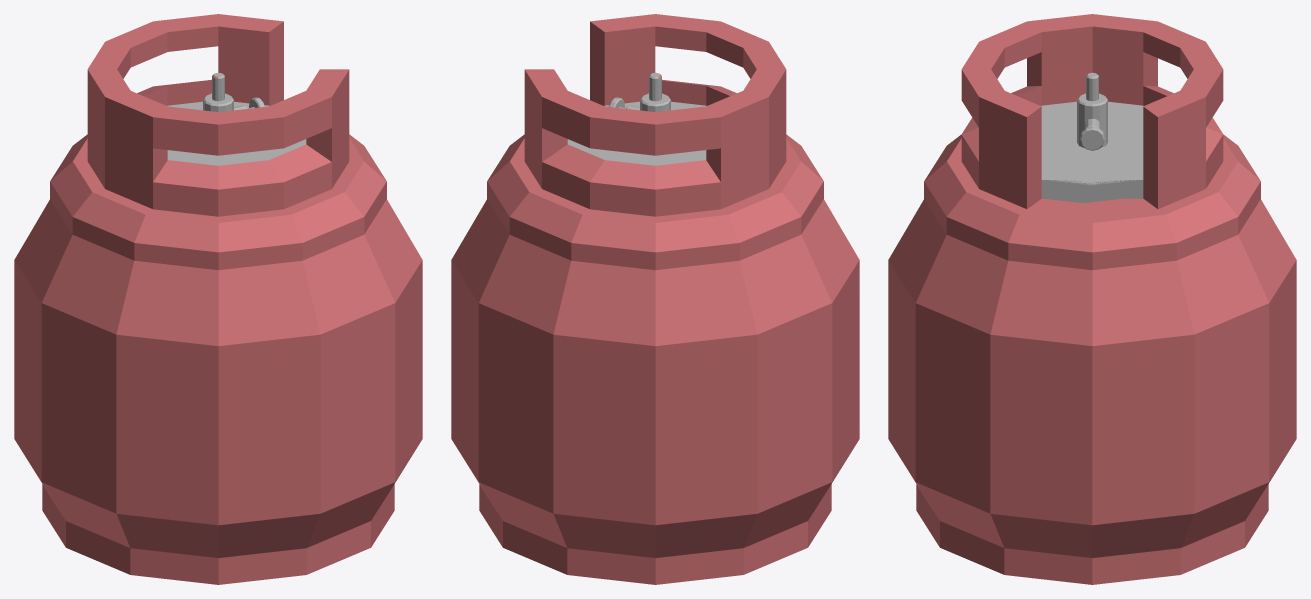
File: Gas Tank A.glb
3 views of the same model, side by side, from view 1: azimuth 30°, elevation 25°; view 2: azimuth 150°, elevation 25°; view 3: azimuth 270°, elevation 25° (orthographic).
Parts seen in each view (by area): view 1: Gas Tank A; view 2: Gas Tank A; view 3: Gas Tank A.
Part boxes in pixels (box(x1,y1,x2,y2)): Gas Tank A: box(14, 14, 422, 584); Gas Tank A: box(451, 14, 859, 584); Gas Tank A: box(888, 14, 1296, 584).
Size of the model in its own units: 53.93 by 64.3 by 53.93.
